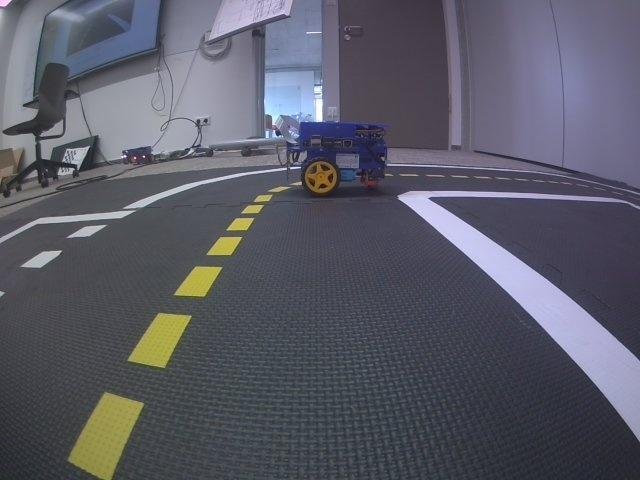bot: (284, 120, 389, 197)
park: (0, 211, 136, 296)
